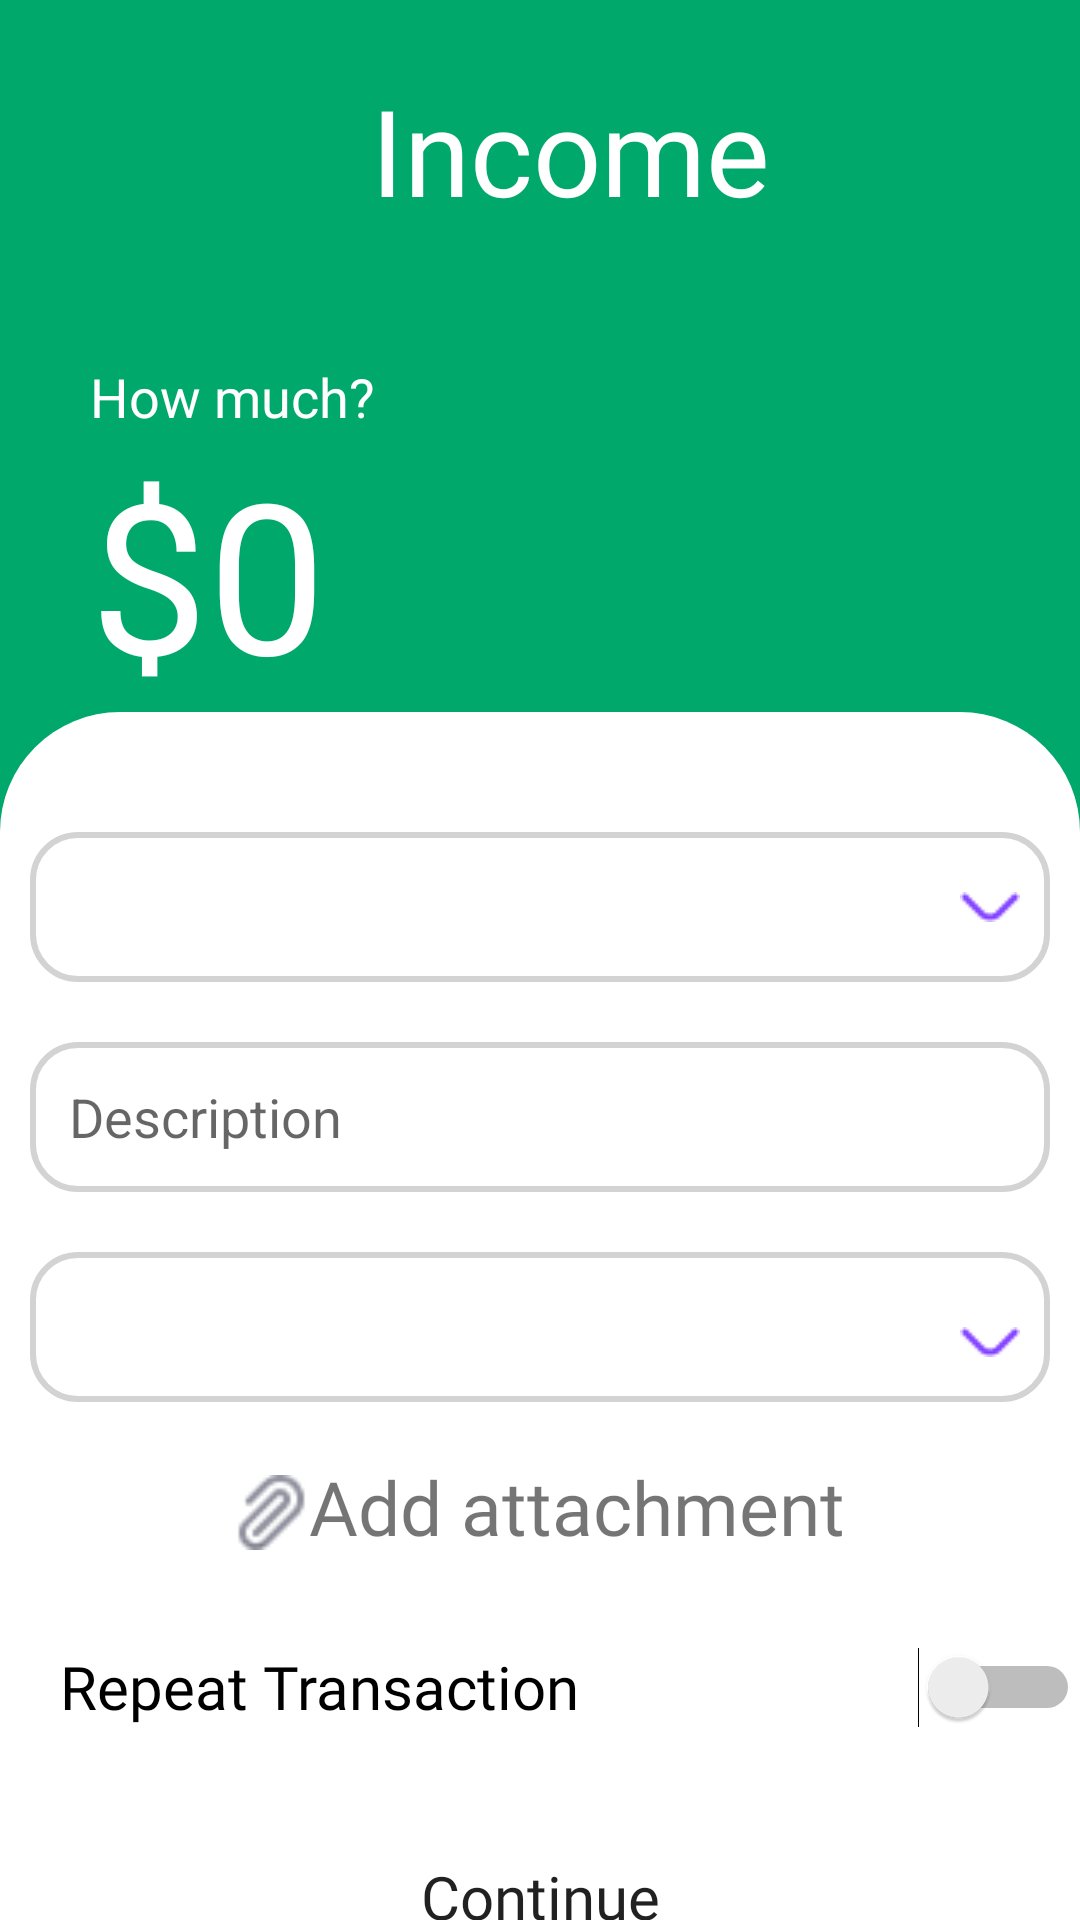

Where icons sit on this 1080w x 1920h app screen, as {"x1": x1, "y1": y1, "x2": x2, "y2": y2}:
arrow down: {"x1": 960, "y1": 892, "x2": 1020, "y2": 922}, {"x1": 960, "y1": 1327, "x2": 1020, "y2": 1357}
